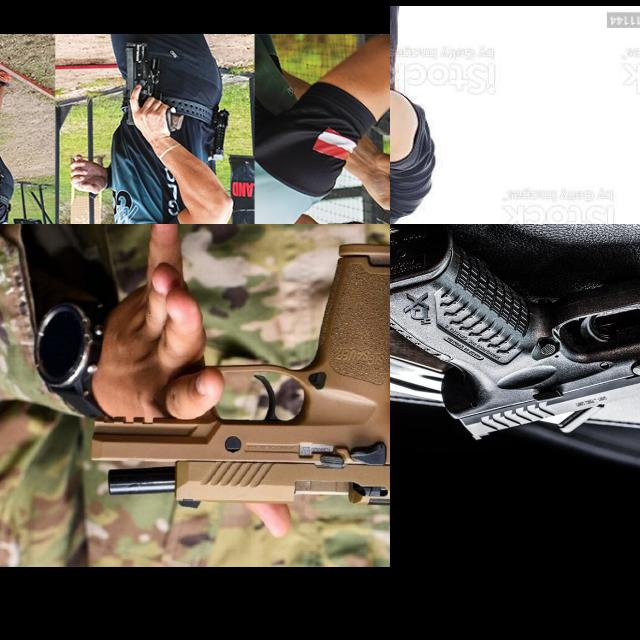handgun: (82, 240, 390, 519), (390, 224, 640, 441), (118, 39, 152, 128), (390, 129, 412, 224)
